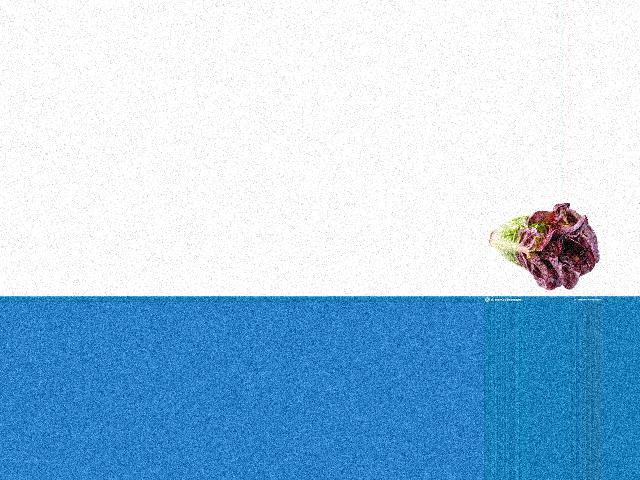lettuce: (488, 206, 597, 290)
